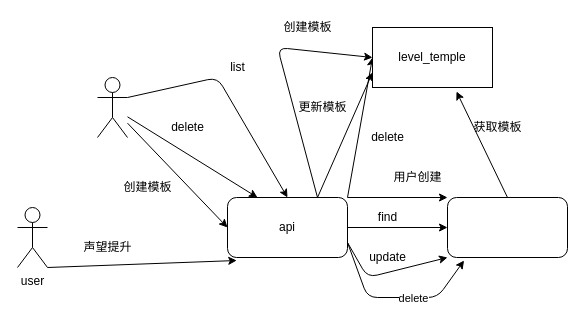
Image size: 585x323. Some labels were removed from this diagram. The centre of each missing label's shape, as x and y in pixels:
admin: (x=112, y=107)
popularity service: (x=507, y=227)
